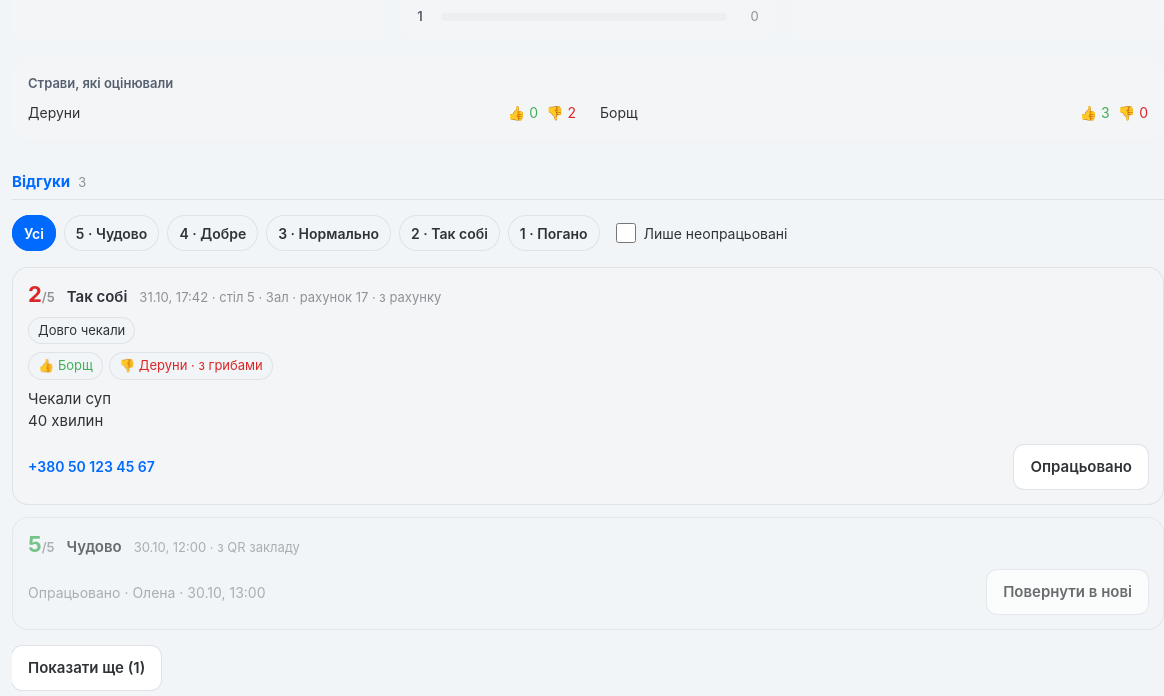
Scenario: ReviewsPage › asks for the next page by offset and keeps the rows it has
(page scrolled)
Click the button "Показати ще (1)". click: (87,668)
box: [12, 646, 161, 690]
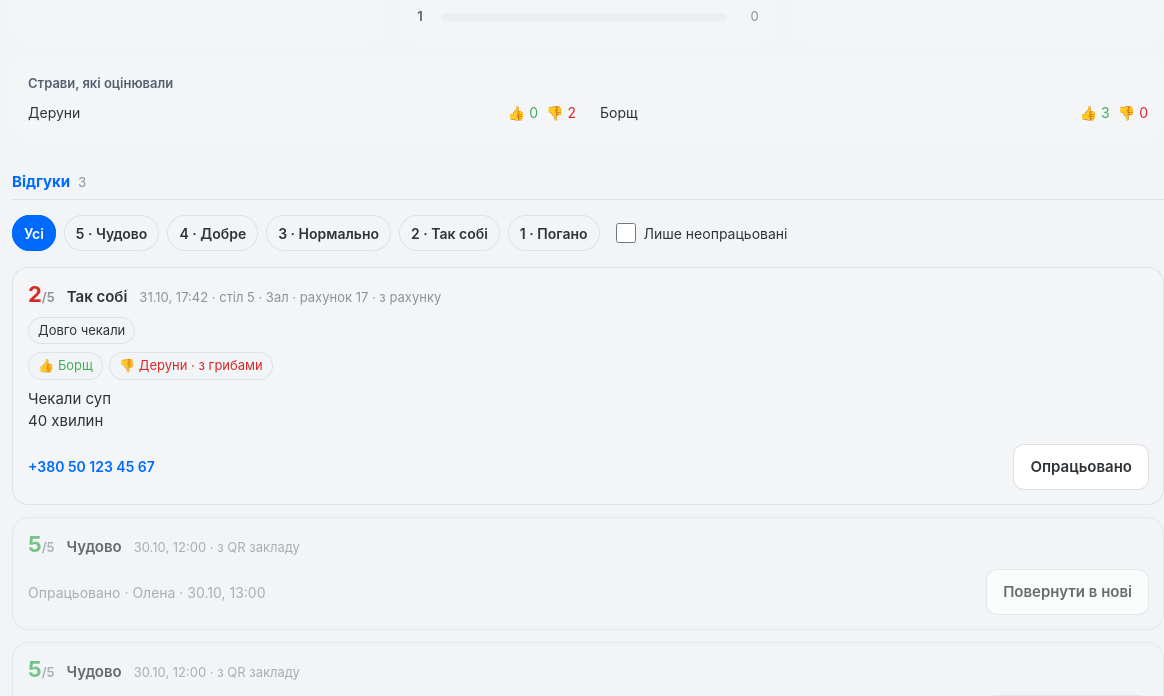
Expected: the button "Показати ще" is gone
